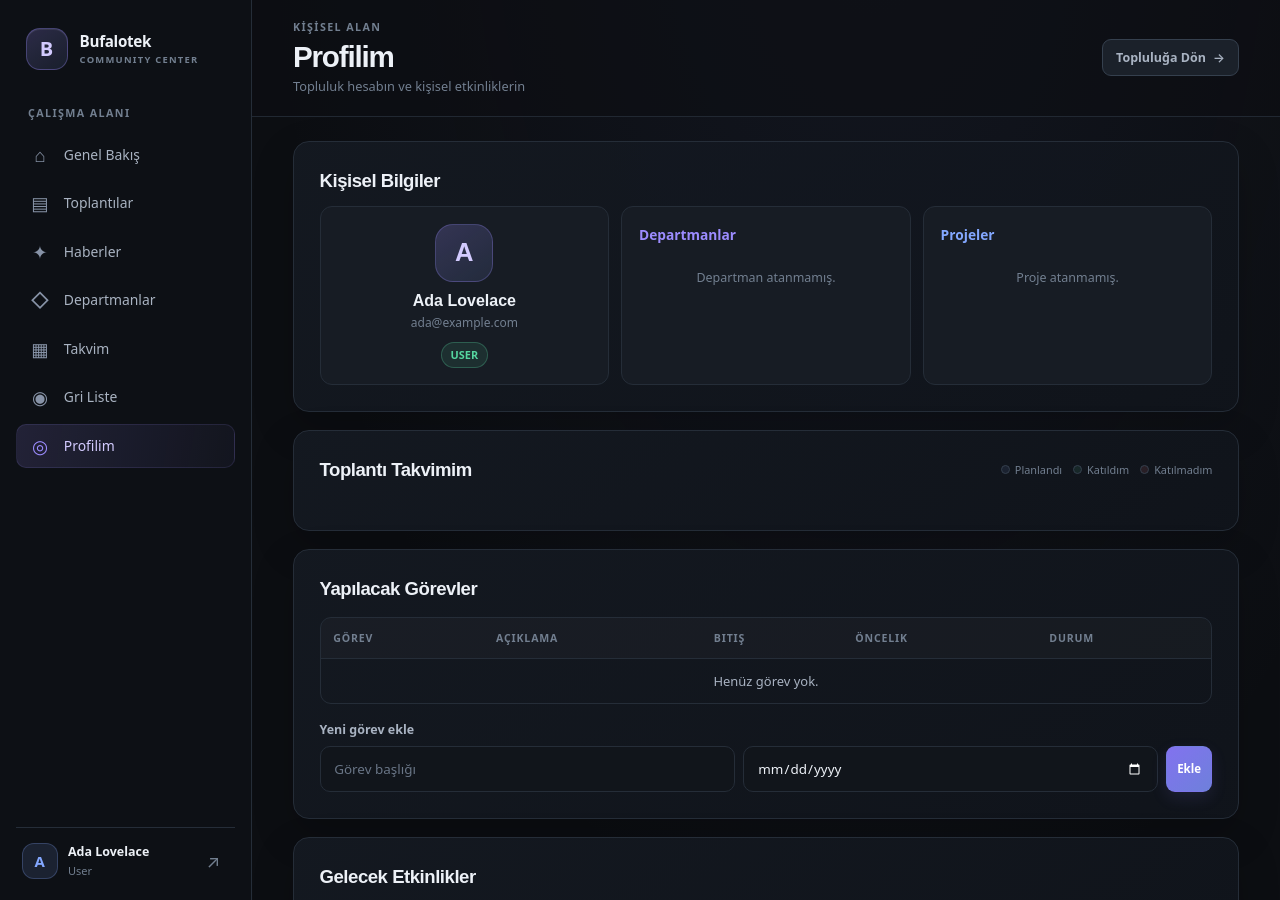
Test: adds a personal task and clears the form only after it succeeds
Step 1. Type "Plan workshop" into the field with placeholder "Görev başlığı" → [527, 769], box [320,746,735,792]
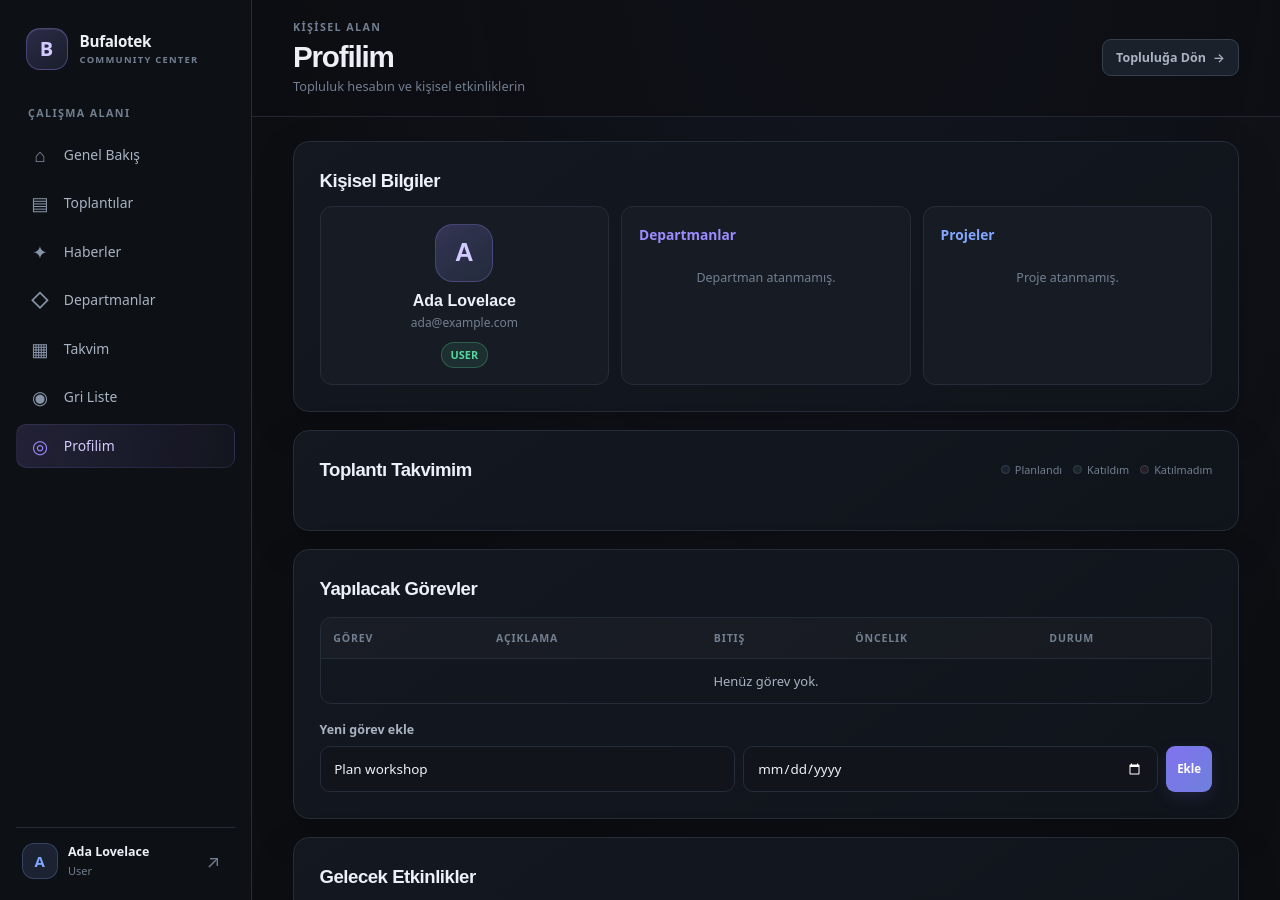
Step 2. Click the button "Ekle" → [1189, 769], box [1166,746,1212,792]
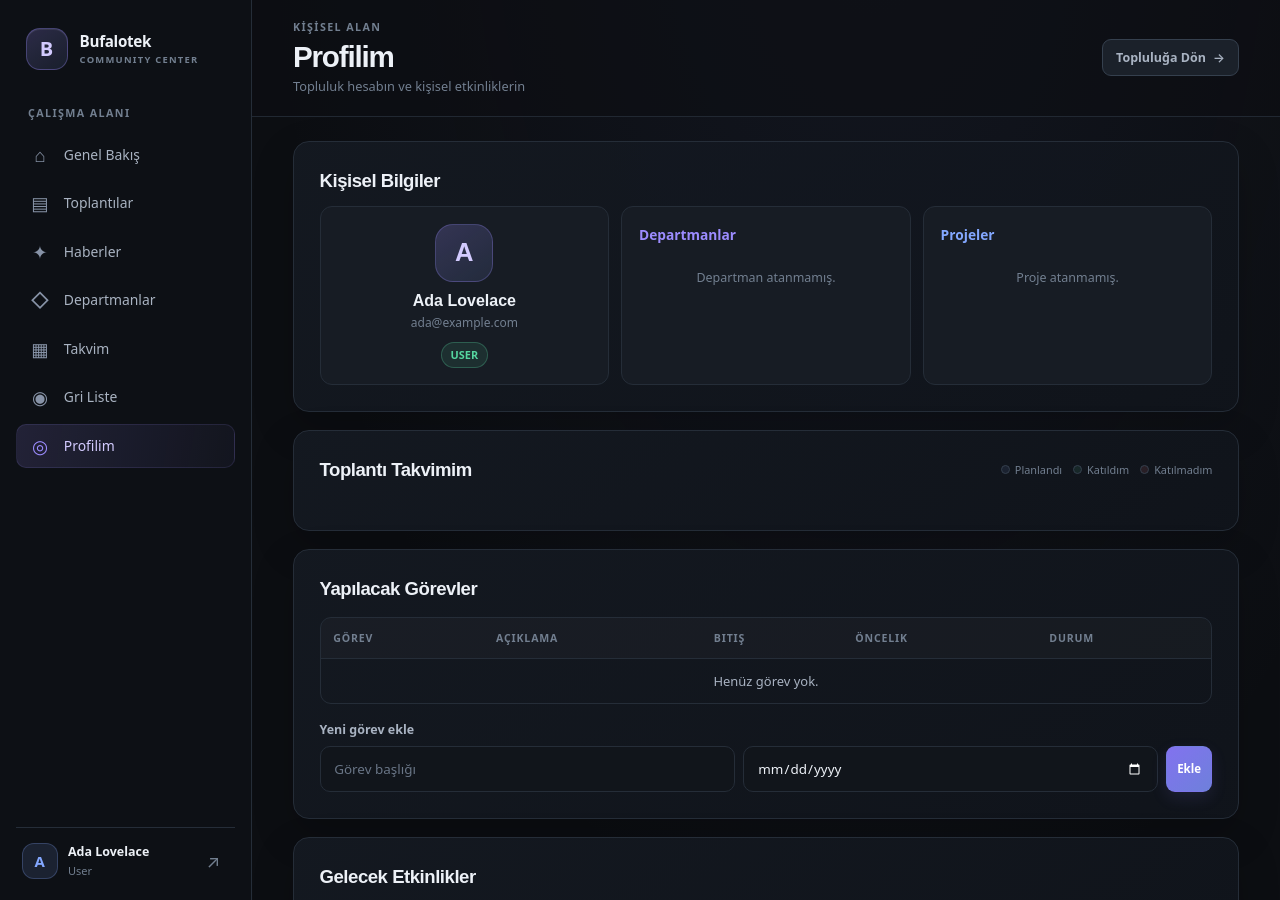
Now the field with placeholder "Görev başlığı" is empty, box [320,746,735,792]
